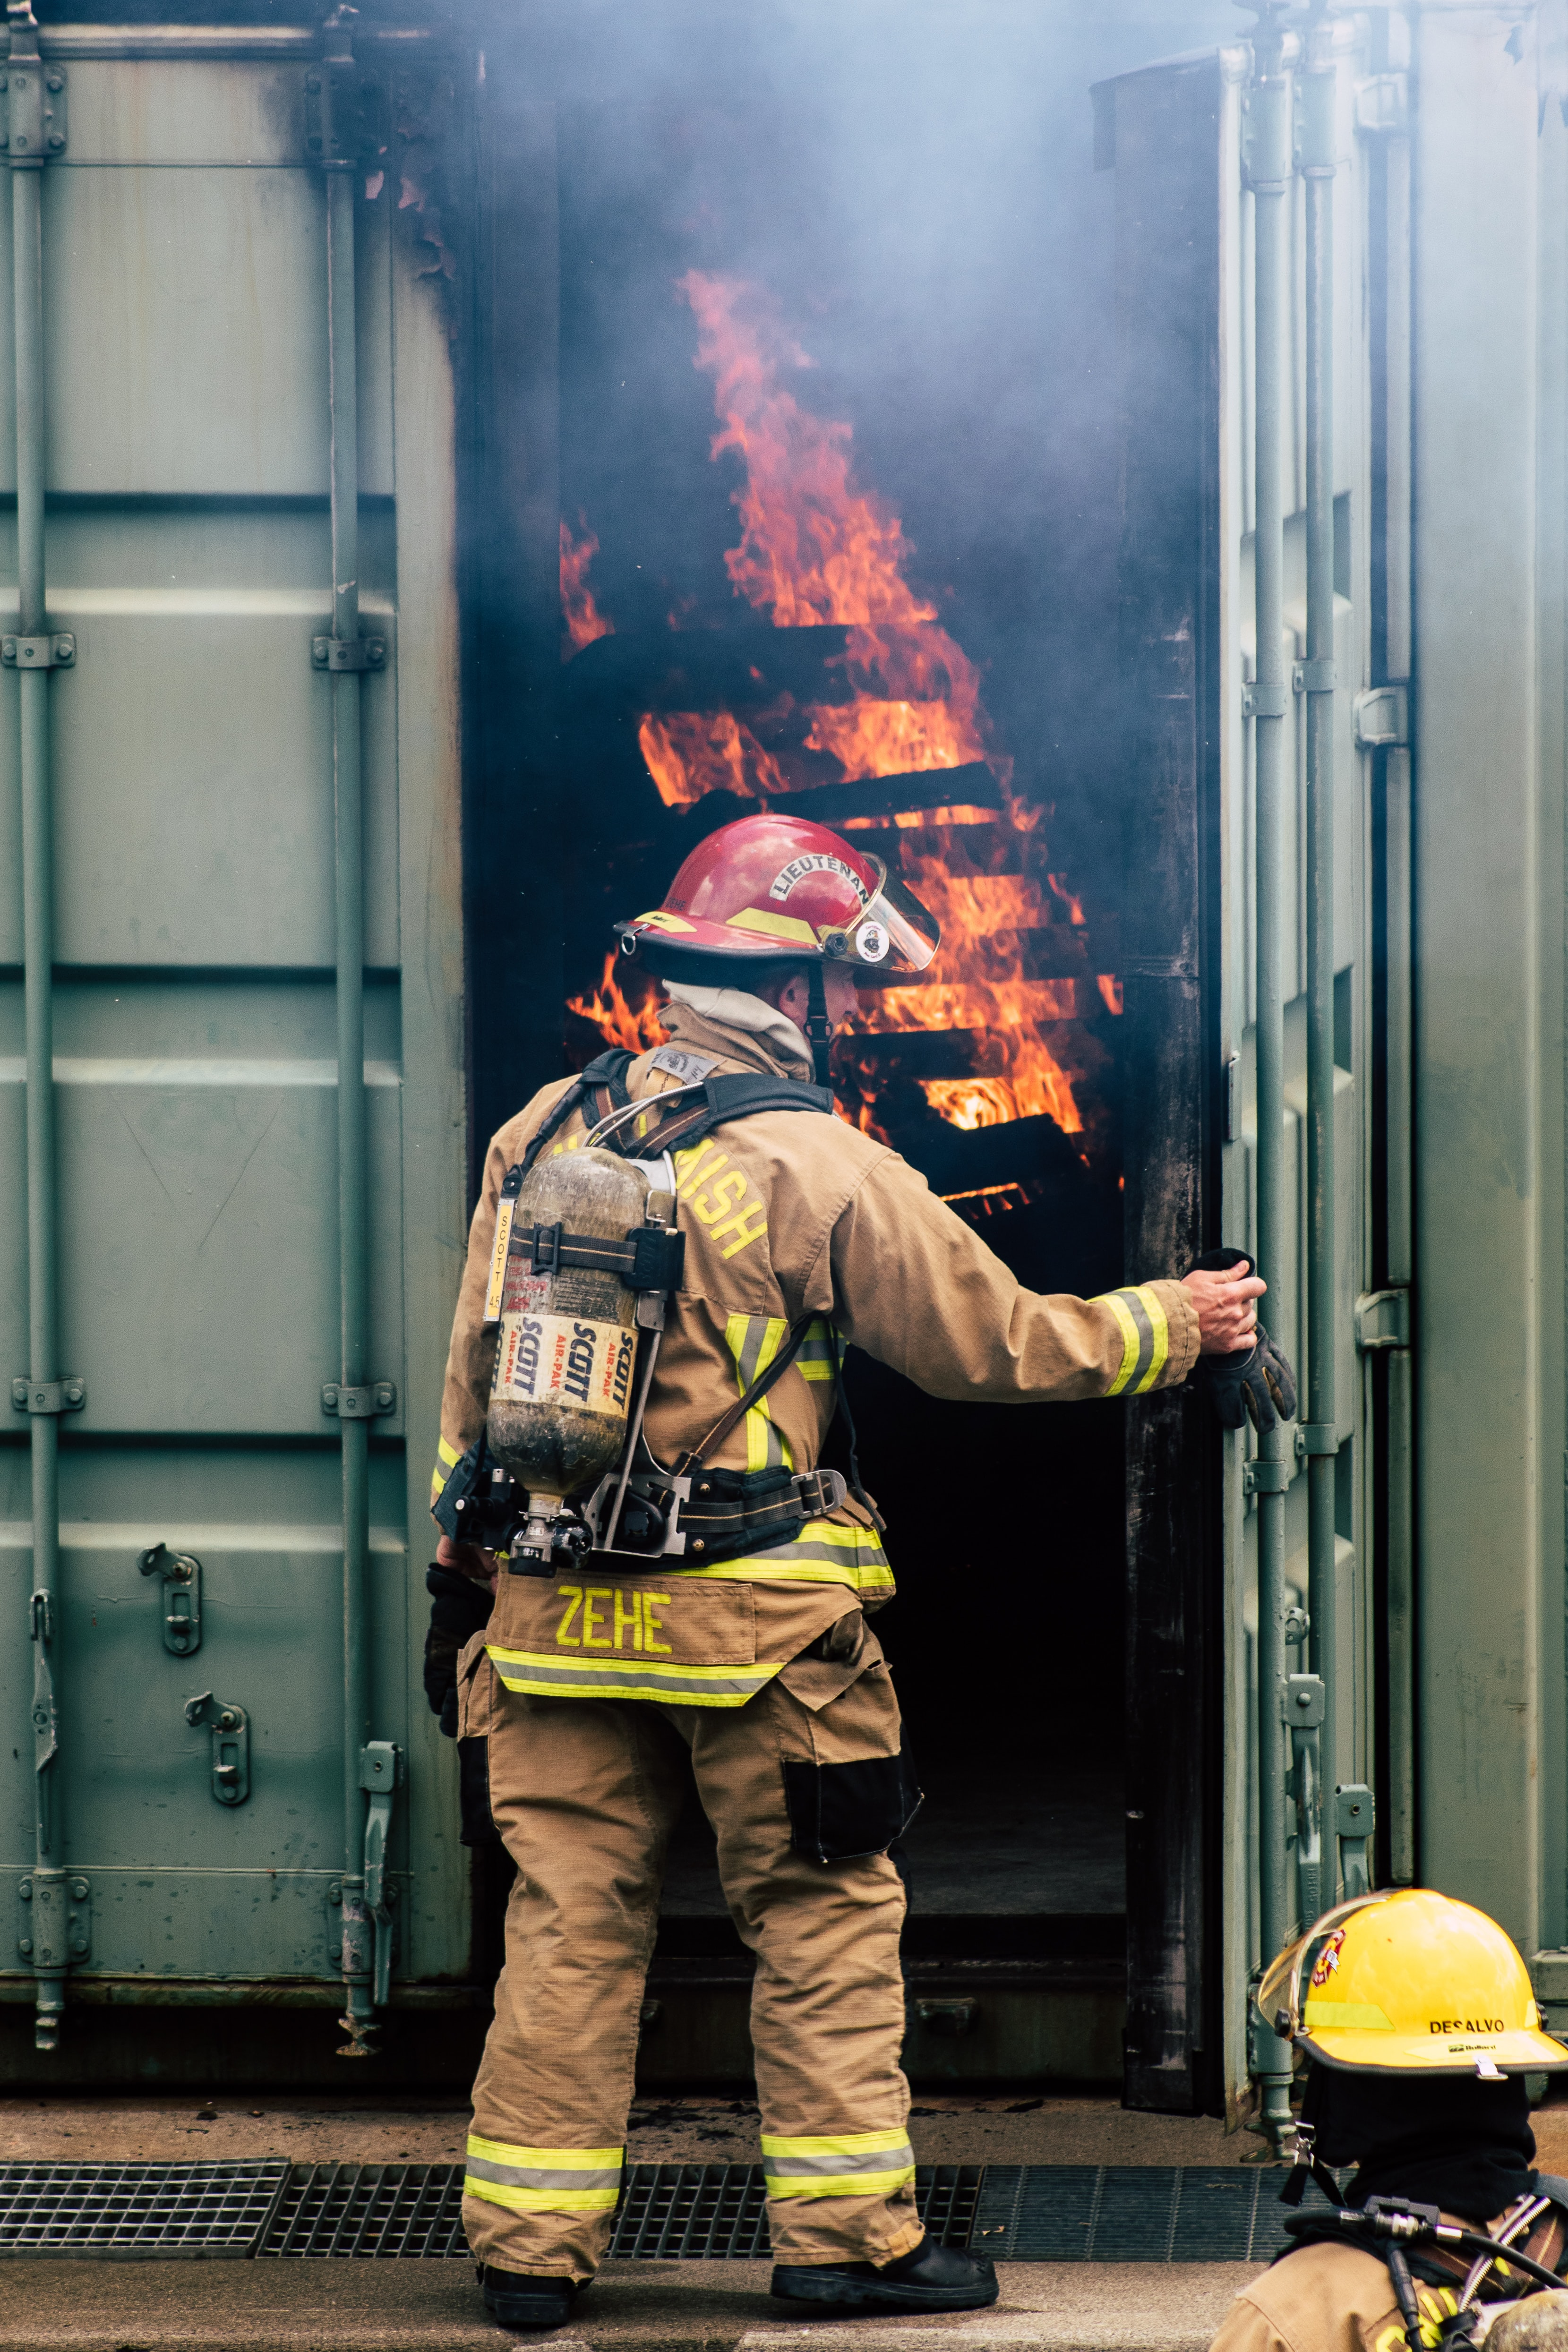emergent: (413, 812, 1169, 2352), (1157, 1886, 1566, 2352)
